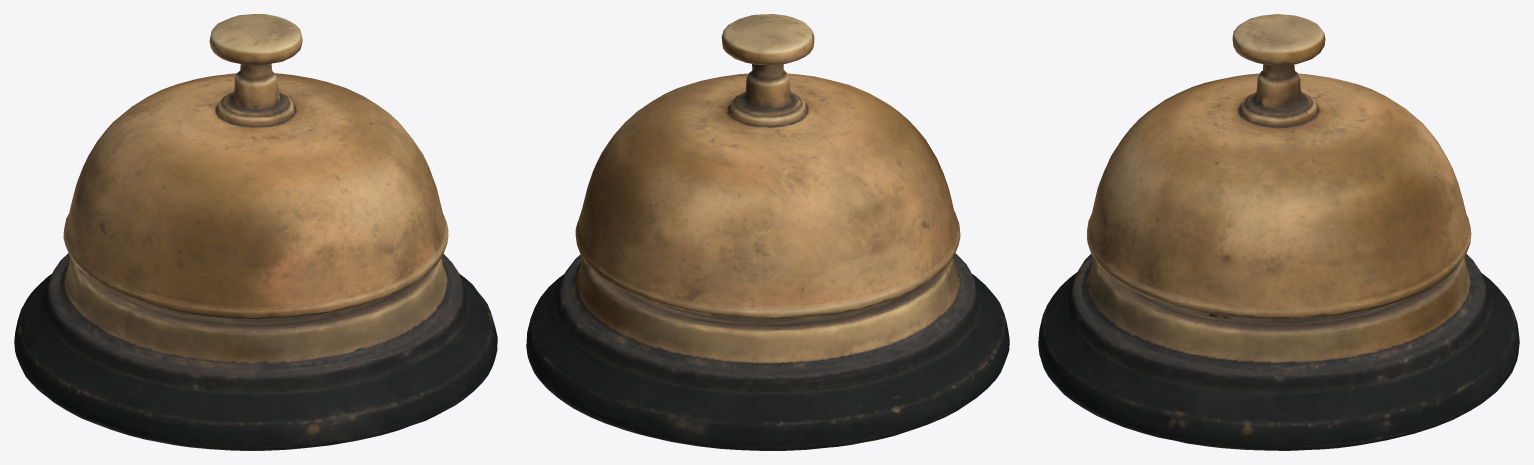
File: service-bell.glb
The picture shows the model from 3 angles, left to right: view 1: azimuth 30°, elevation 25°; view 2: azimuth 150°, elevation 25°; view 3: azimuth 270°, elevation 25°; orthographic projection.
Bounding box in the file's own units: 1 × 0.743 × 1.
Materials: 1 (1 with a texture image).
